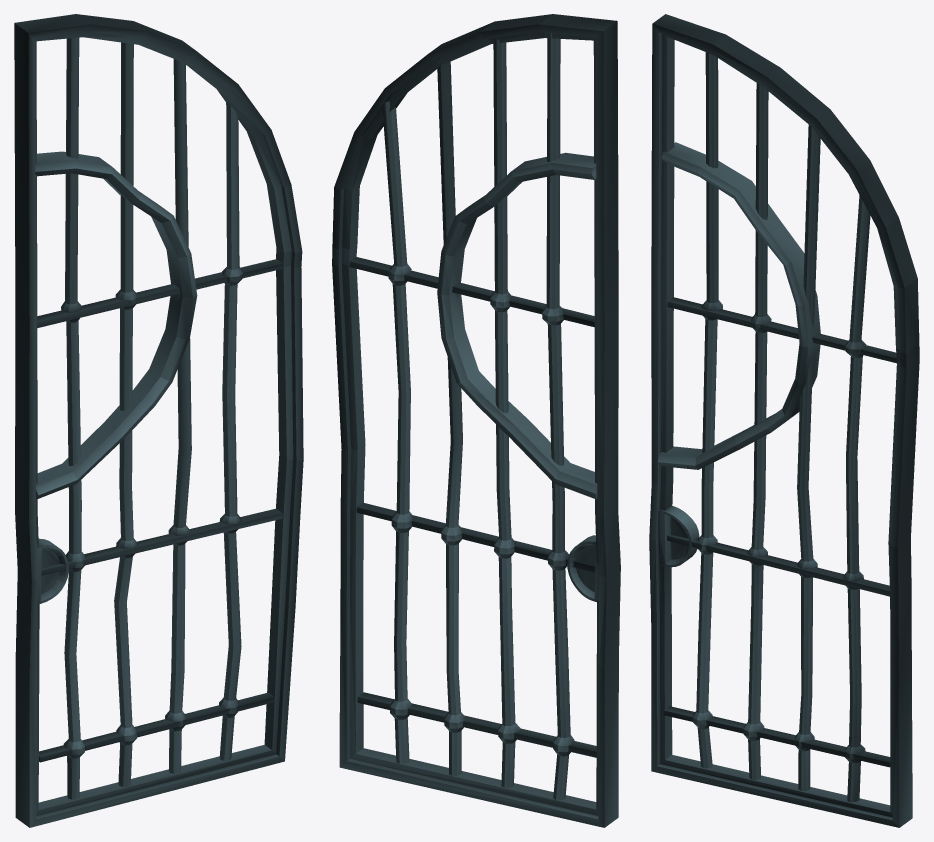
Rendered from obj_gateDoor_right.FBX.
The picture shows the model from 3 angles, left to right: view 1: azimuth 30°, elevation 25°; view 2: azimuth 150°, elevation 25°; view 3: azimuth 330°, elevation 25°; orthographic projection. The views are drawn at different scales.
Parts seen in each view (by area): view 1: obj_gateDoor_right; view 2: obj_gateDoor_right; view 3: obj_gateDoor_right.
Boxes of the visible parts, box(x1,y1,x2,y2) form: obj_gateDoor_right: box(14, 14, 303, 827); obj_gateDoor_right: box(332, 14, 620, 827); obj_gateDoor_right: box(649, 14, 919, 827).
Bounding box in the file's own units: 1.67 × 4.65 × 0.2677.
